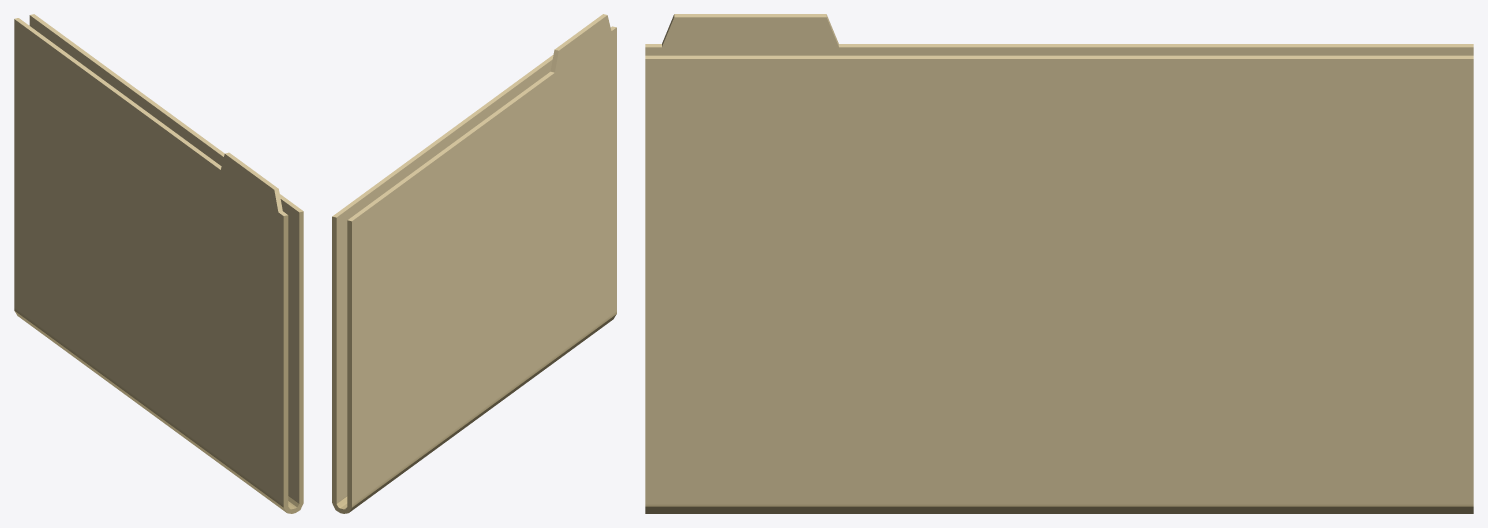
Rendered from folder.FBX.
3 renders of one model, left to right at view 1: azimuth 30°, elevation 25°; view 2: azimuth 150°, elevation 25°; view 3: azimuth 270°, elevation 25°, orthographic. The views are drawn at different scales.
Parts seen in each view (by area): view 1: Folder_UVMAPPED_Object002_sep10_auv; view 2: Folder_UVMAPPED_Object002_sep10_auv; view 3: Folder_UVMAPPED_Object002_sep10_auv.
Part boxes in pixels (x1,y1,x2,y2): Folder_UVMAPPED_Object002_sep10_auv: (14,14,303,513); Folder_UVMAPPED_Object002_sep10_auv: (332,14,616,513); Folder_UVMAPPED_Object002_sep10_auv: (645,14,1473,513).
Bounding box in the file's own units: 4.12 × 62.66 × 95.92.
1 material, 1 textured.
